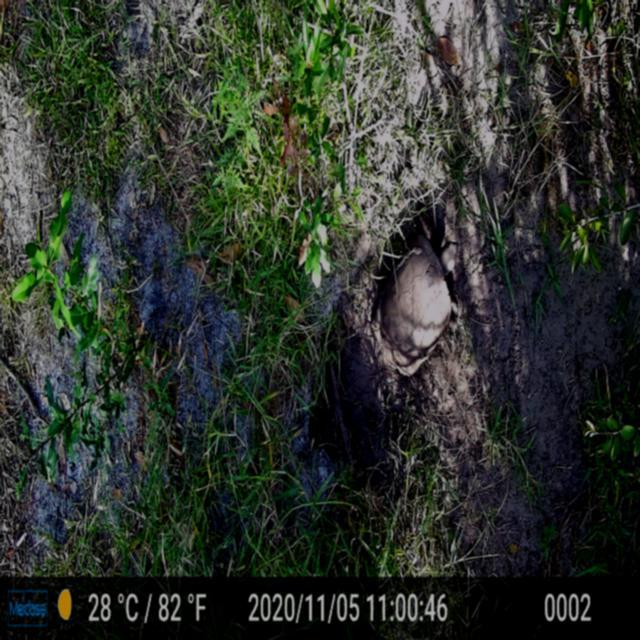tortoise: (369, 207, 465, 388)
